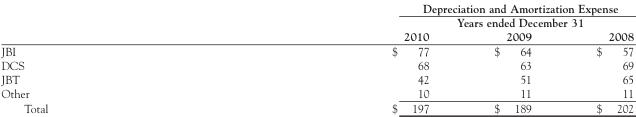table: (0, 0, 633, 114)
table column: (219, 0, 461, 114), (0, 0, 219, 114), (461, 0, 563, 114), (563, 0, 633, 114)
table column header: (0, 0, 633, 43)
table row: (0, 0, 633, 29), (0, 85, 633, 100), (0, 29, 633, 43), (0, 43, 633, 57), (0, 57, 633, 71), (0, 71, 633, 85), (0, 100, 633, 114)
table spanning cell: (219, 0, 633, 29)
